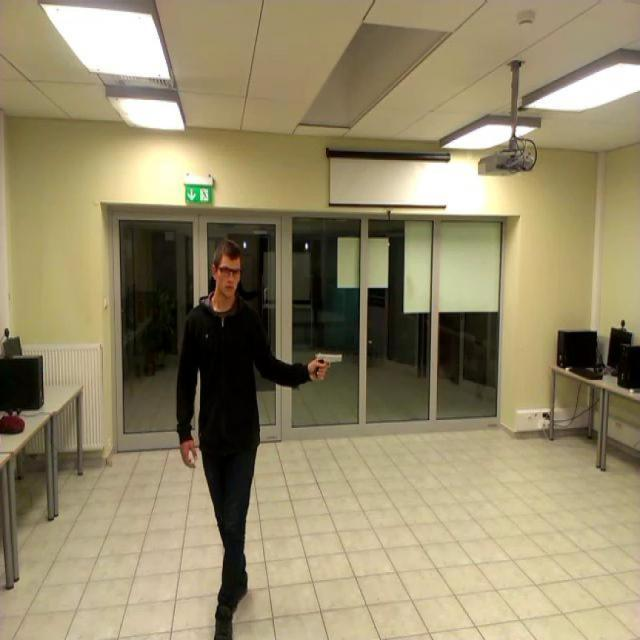pistol: (315, 351, 343, 376)
